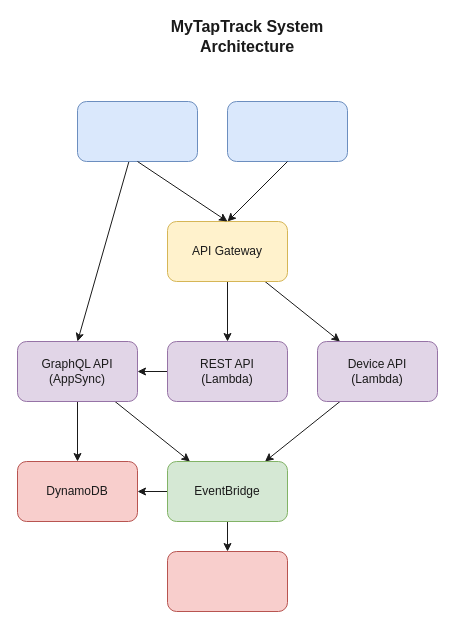
The diagram is 455 pixels wide and 629 high, and some of its shapes have lost their labels. The shapes that lost their labels are listed below. From the top down, each one's centre as x and y in pixels, then its label:
point (137, 131): Web Application
point (287, 131): Mobile Application
point (227, 581): S3 Data Lake
